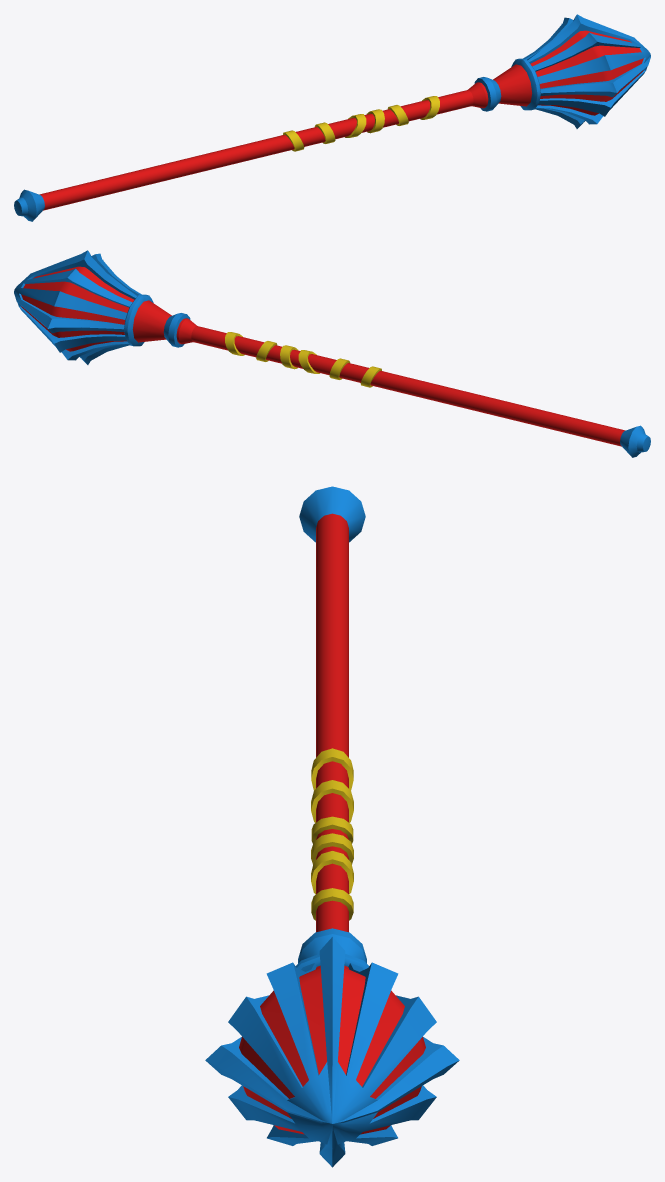
File: ZelkovaWorkshopMace.fbx
3 views of the same model, one above another, from view 1: azimuth 30°, elevation 25°; view 2: azimuth 150°, elevation 25°; view 3: azimuth 270°, elevation 25° (orthographic). The views are drawn at different scales.
Parts seen in each view (by area): view 1: Zelkova Workshop - Mace; view 2: Zelkova Workshop - Mace; view 3: Zelkova Workshop - Mace.
Part boxes in pixels (x1=…): Zelkova Workshop - Mace: x1=14, y1=14, x2=650, y2=221; Zelkova Workshop - Mace: x1=14, y1=250, x2=650, y2=457; Zelkova Workshop - Mace: x1=205, y1=486, x2=459, y2=1167.
Size of the model in its own units: 139 by 24.17 by 24.17.
